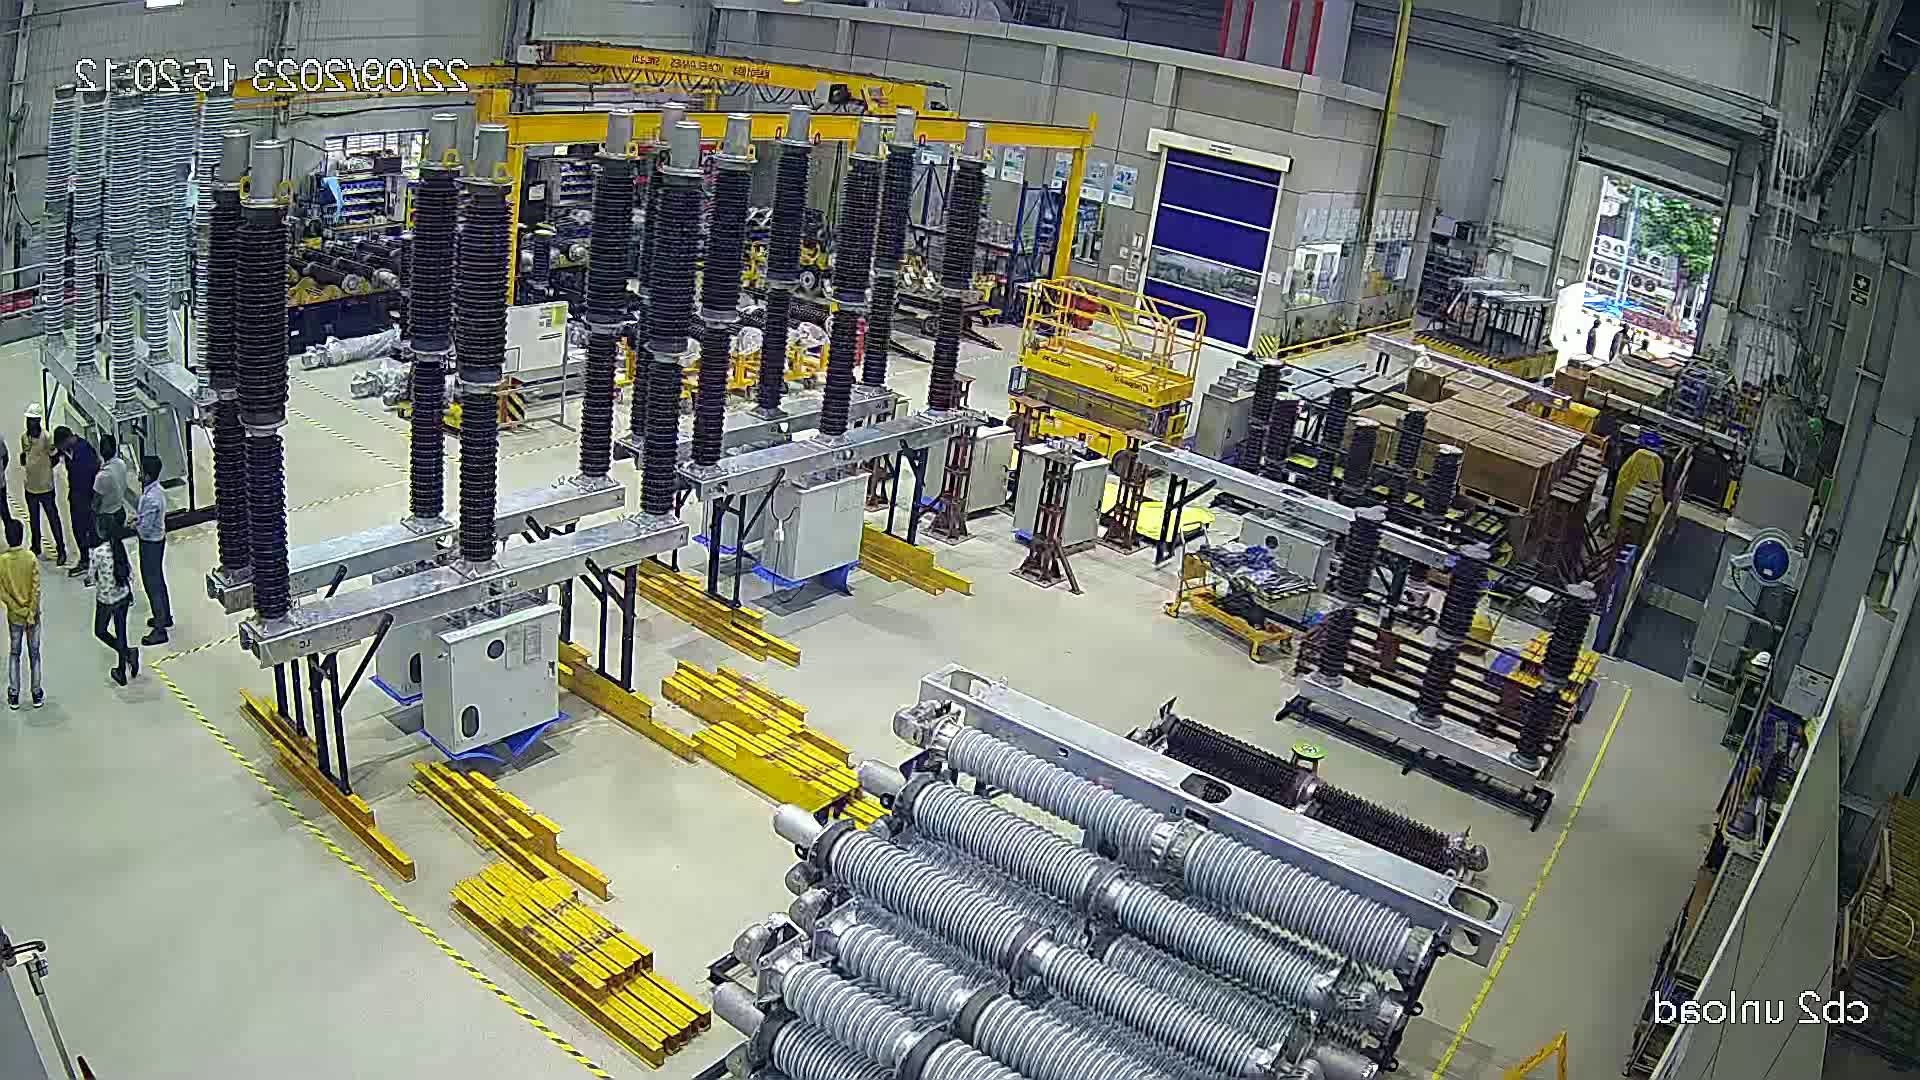hard_hat: (21, 398, 47, 433)
no_hard_hat: (138, 448, 167, 485), (49, 422, 79, 454), (3, 516, 29, 551), (94, 433, 121, 464), (92, 512, 120, 542)
